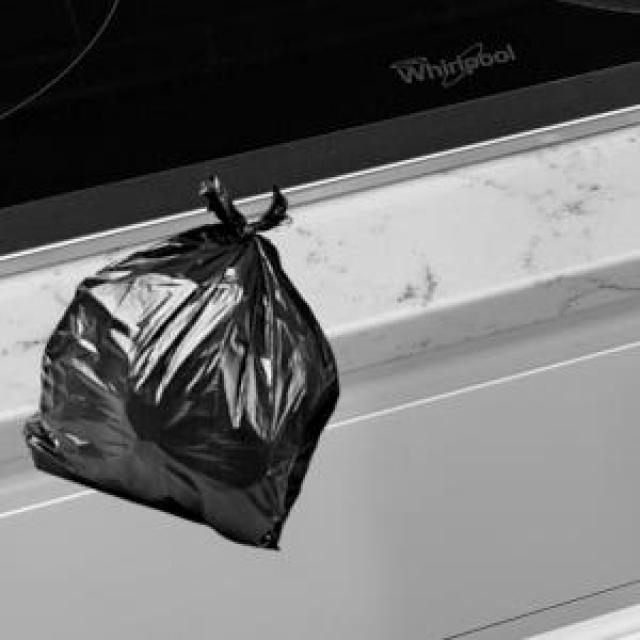miscellaneous trash: (19, 171, 335, 546)
